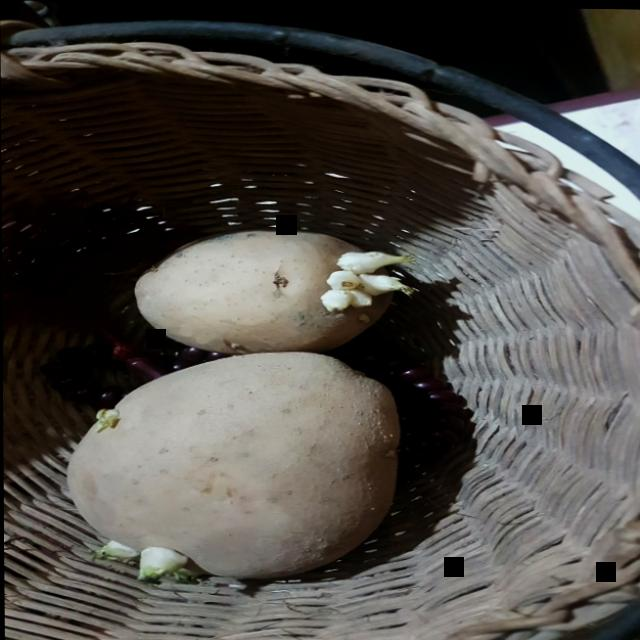potato: (59, 341, 418, 584), (120, 214, 425, 358)
